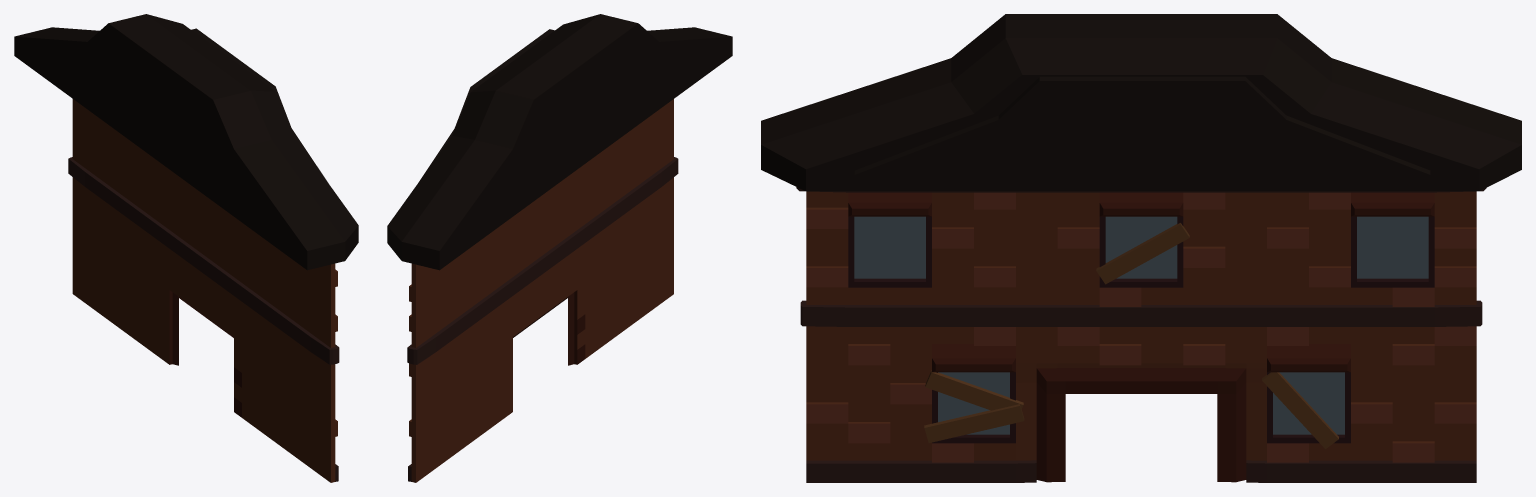
File: facade.fbx
3 views of the same model, side by side, from view 1: azimuth 30°, elevation 25°; view 2: azimuth 150°, elevation 25°; view 3: azimuth 270°, elevation 25° (orthographic). The views are drawn at different scales.
Visible parts, largest first — view 1: Facade; view 2: Facade; view 3: Facade.
Part boxes in pixels (x1,y1,x2,y2): Facade: (14,14,358,482); Facade: (387,14,732,482); Facade: (761,14,1521,482).
Size of the model in its own units: 822 by 3497 by 5506.
